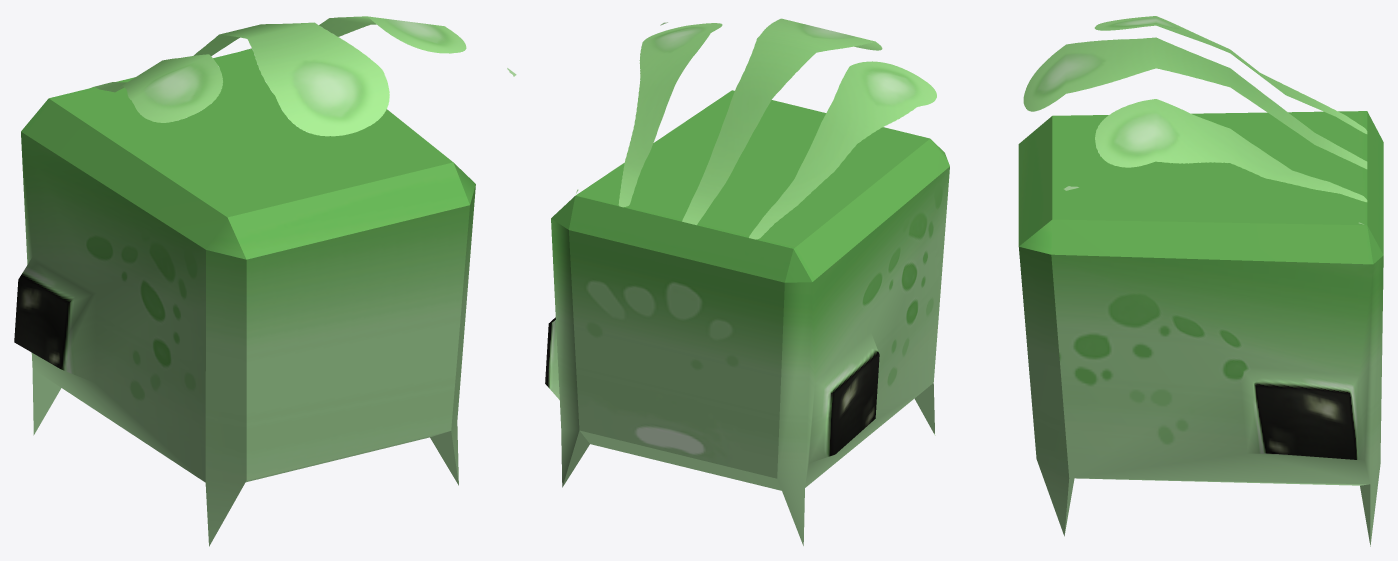
File: alien1.fbx
The picture shows the model from 3 angles, left to right: view 1: azimuth 30°, elevation 25°; view 2: azimuth 150°, elevation 25°; view 3: azimuth 270°, elevation 25°; orthographic projection. The views are drawn at different scales.
Visible parts, largest first — view 1: pPlane3; view 2: pPlane3; view 3: pPlane3.
Part boxes in pixels (left/top/right/bottom): pPlane3: left=14, top=16, right=516, bottom=546; pPlane3: left=545, top=18, right=949, bottom=545; pPlane3: left=1018, top=16, right=1383, bottom=546.
Size of the model in its own units: 2.36 by 2.8 by 2.19.
Materials: 1 (1 with a texture image).
